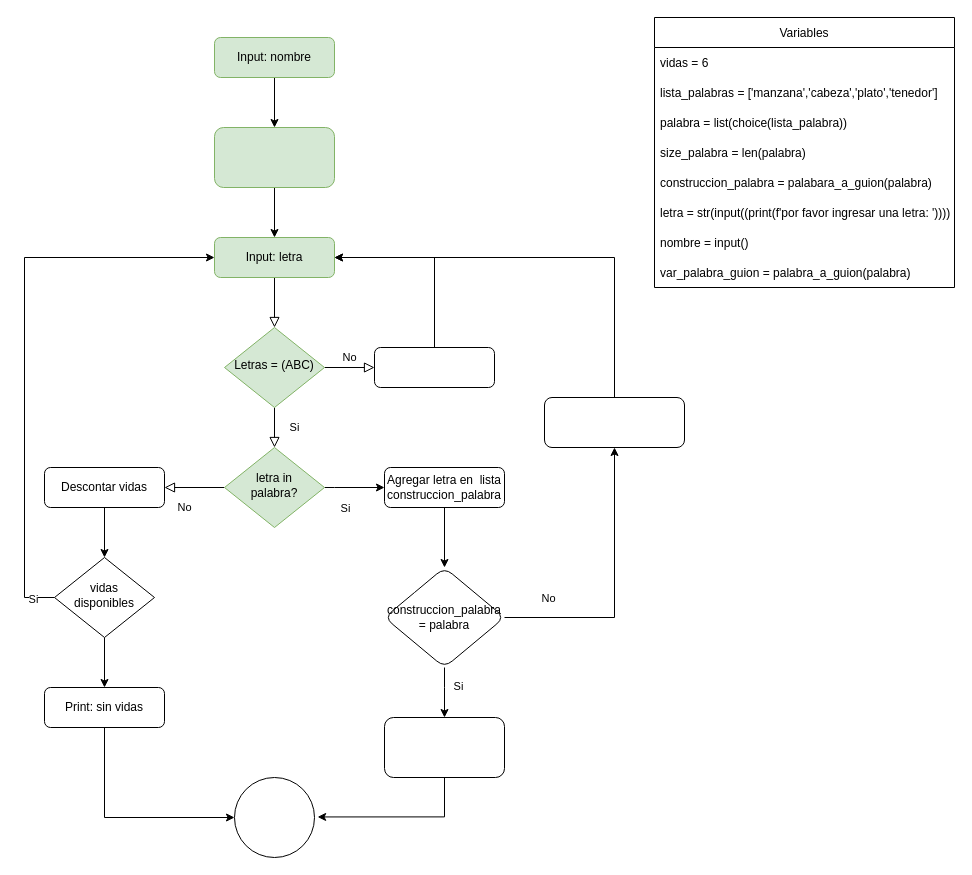
Some shapes in this 972 by 875 pixel diagram are drawn without their labels. Each missing label, with the box of its shape:
Fin: (234, 776, 314, 858)
Ganaste!: (384, 716, 504, 778)
Por favor ingresa una letra: (374, 346, 494, 388)
print = hola {nombre} tu palabra es: {var_palabra_guion}: (214, 126, 334, 188)
print: Tu palabra hasta ahora: {construccion_palabra}: (544, 396, 684, 448)
